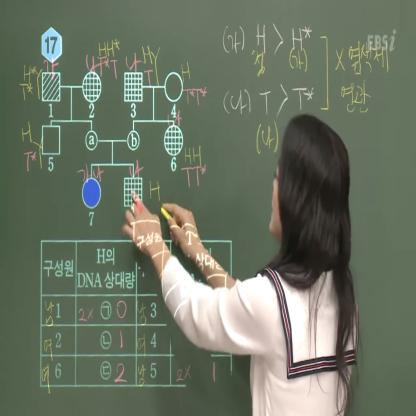streamer: (123, 113, 359, 416)
